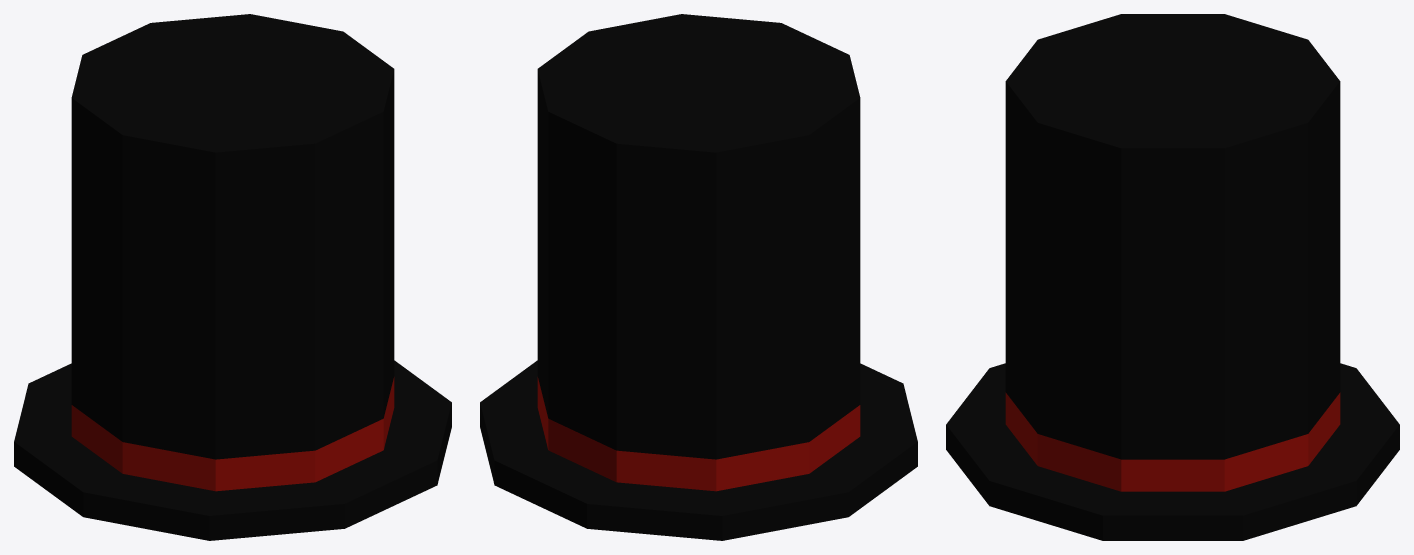
Rendered from Hat.fbx.
3 views of the same model, side by side, from view 1: azimuth 30°, elevation 25°; view 2: azimuth 150°, elevation 25°; view 3: azimuth 270°, elevation 25° (orthographic).
Visible parts, largest first — view 1: Hat; view 2: Hat; view 3: Hat.
Boxes of the visible parts, box(x1,y1,x2,y2) form: Hat: box(14, 14, 451, 540); Hat: box(480, 14, 917, 540); Hat: box(946, 14, 1399, 540).
Bounding box in the file's own units: 230 × 217 × 242.
